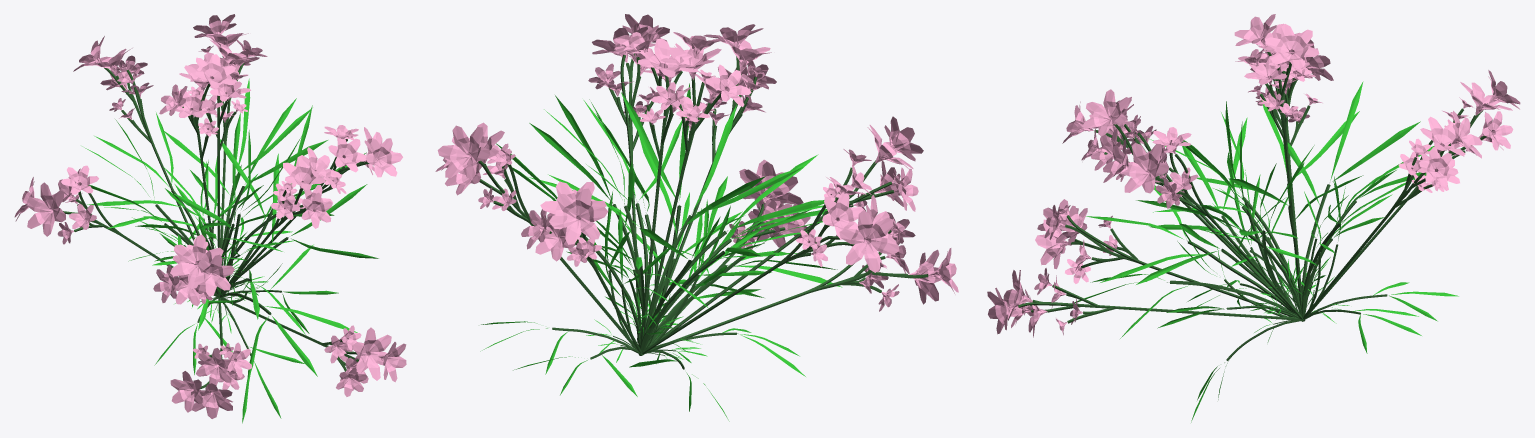
The model's file is plants1.obj.
3 views of the same model, side by side, from view 1: azimuth 30°, elevation 25°; view 2: azimuth 150°, elevation 25°; view 3: azimuth 270°, elevation 25° (orthographic). The views are drawn at different scales.
Parts seen in each view (by area): view 1: 1coreopsi; view 2: 1coreopsi; view 3: 1coreopsi.
Boxes of the visible parts, bbox=[...] form: 1coreopsi: bbox=[14, 14, 406, 423]; 1coreopsi: bbox=[435, 14, 958, 421]; 1coreopsi: bbox=[987, 14, 1520, 422].
Bounding box in the file's own units: 770 × 785 × 978.
